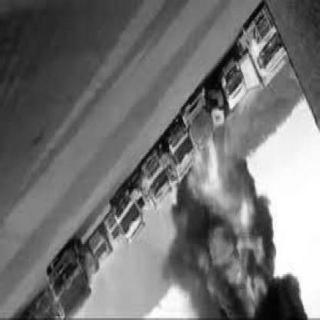other: (242, 22, 254, 60)
